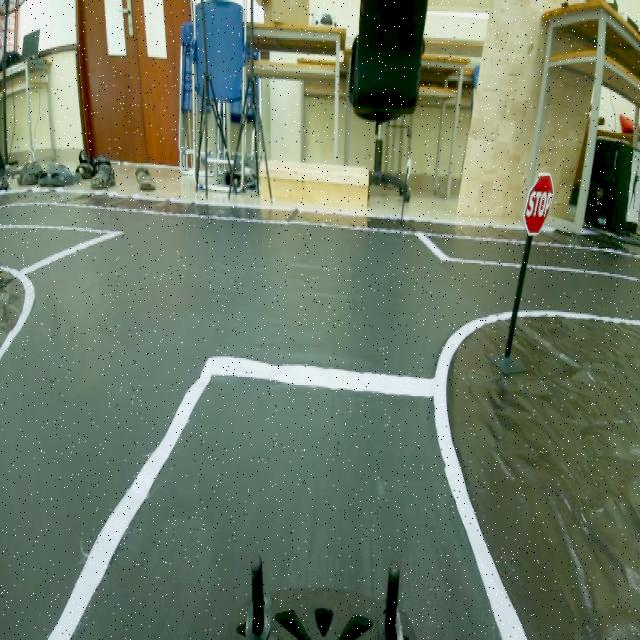stop: (522, 164, 556, 242)
